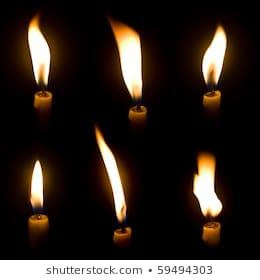fire: (95, 124, 127, 222), (113, 14, 145, 105), (191, 150, 224, 218), (26, 11, 52, 91), (201, 21, 227, 91), (28, 157, 45, 211)
